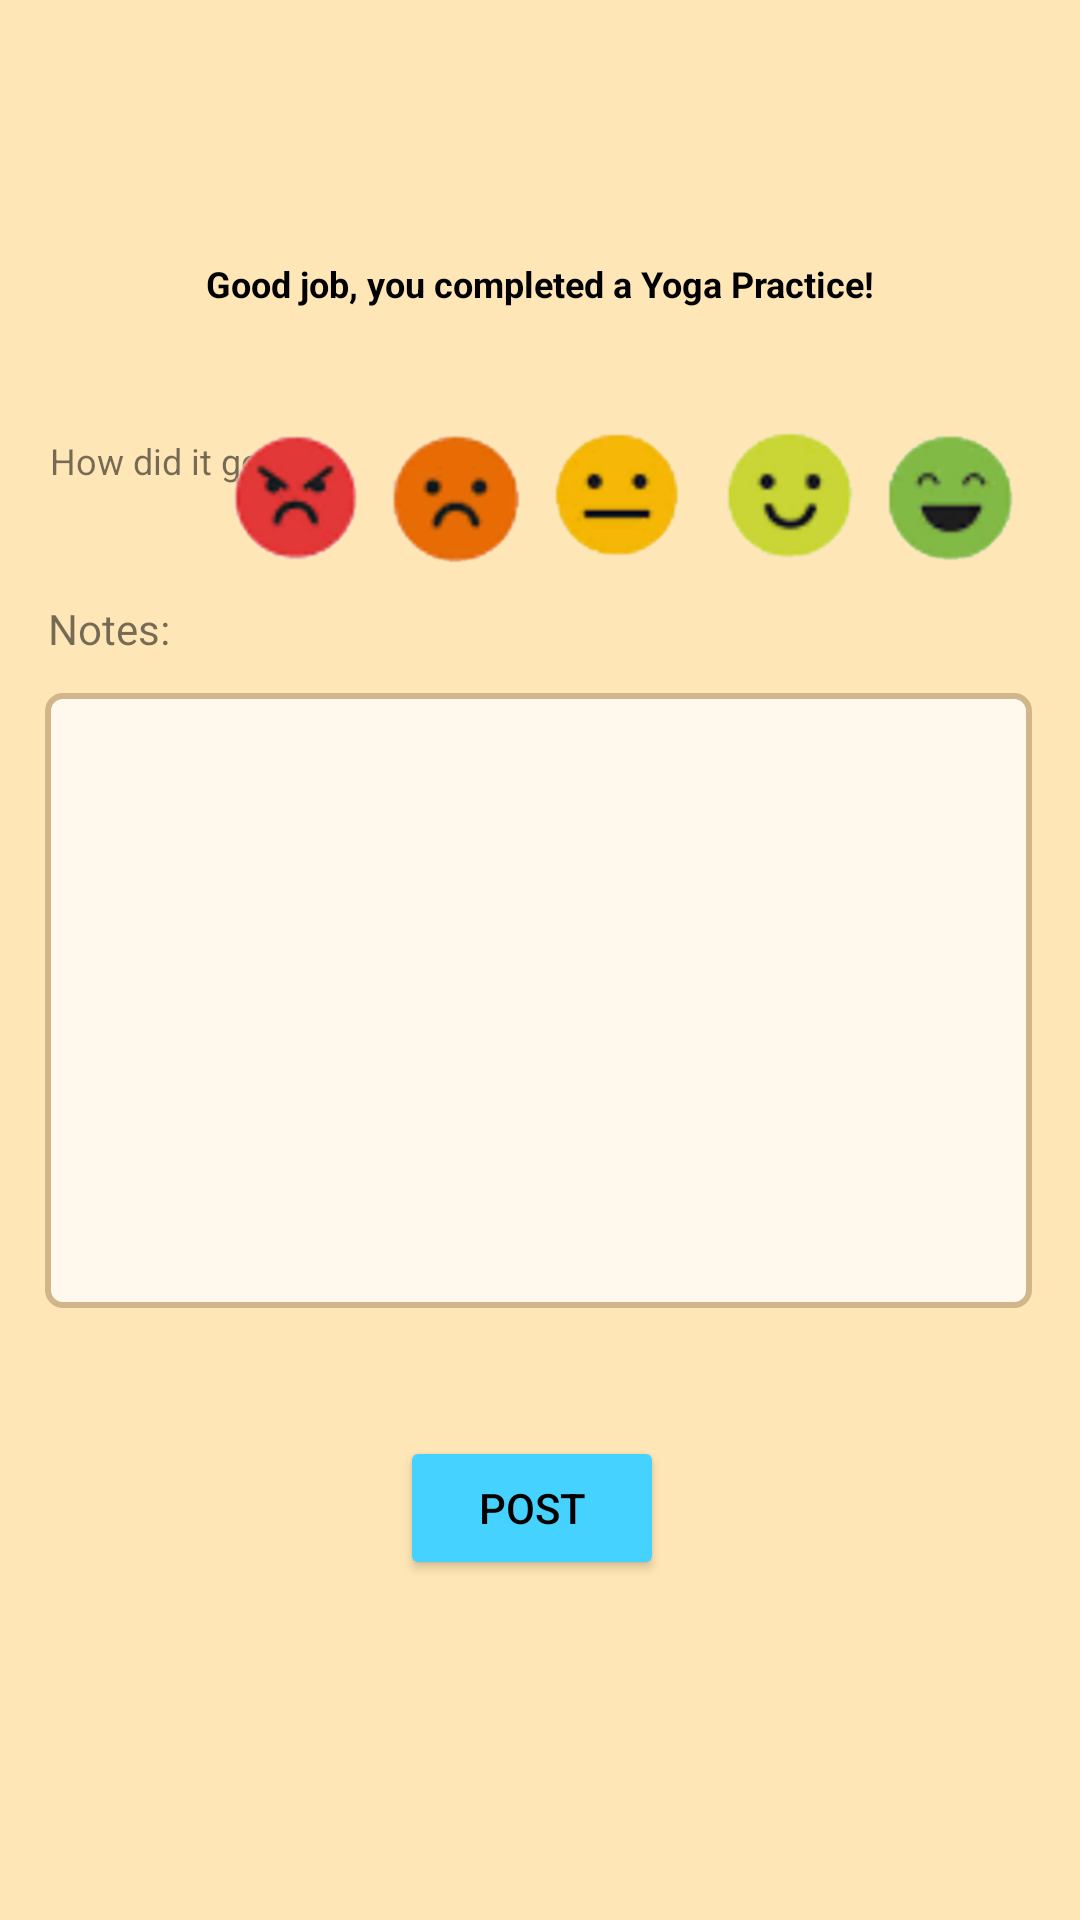

Screen size 1080 x 1920. Icon name, then its box in pixels as (x1, y1, x2, y2):
amazing reaction: (889, 436, 1012, 560)
angry reaction: (222, 436, 357, 559)
neutral reaction: (556, 434, 678, 555)
pleasant reaction: (728, 434, 852, 557)
sad reaction: (393, 436, 519, 562)
